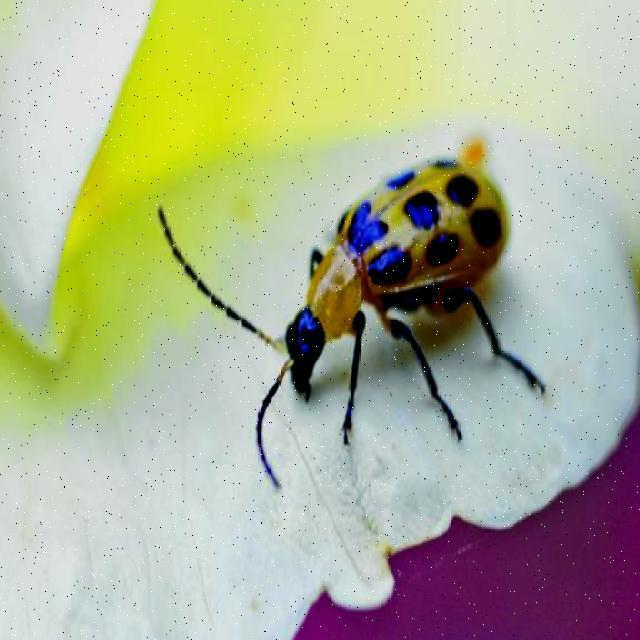gusano_verde: (154, 161, 570, 407)
